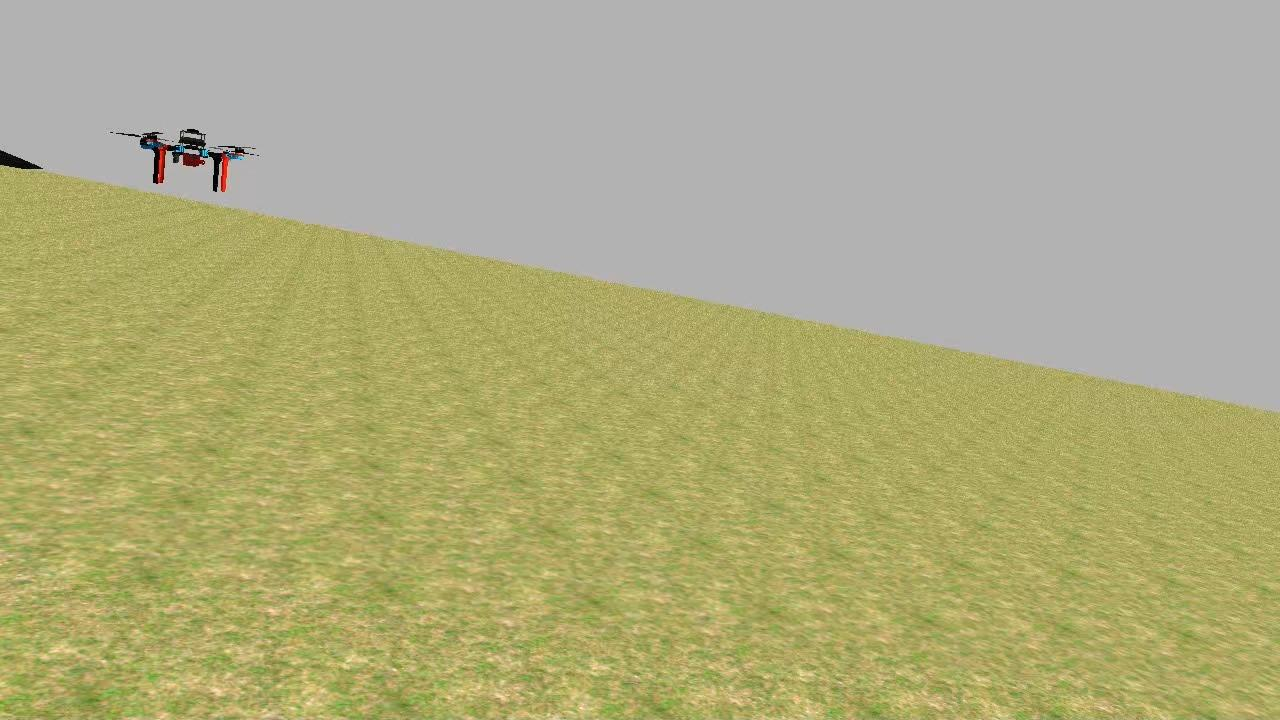UAV: (126, 120, 254, 198)
